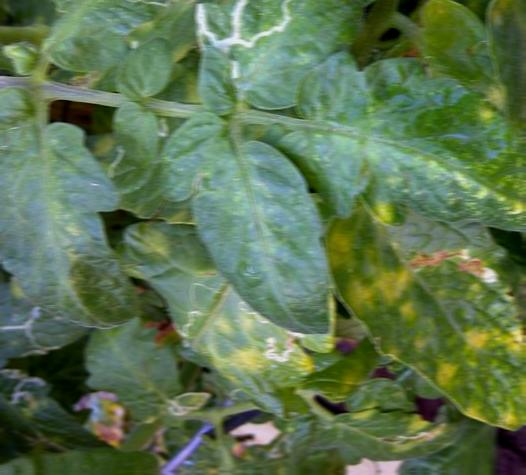Tomato mold leaf: (328, 187, 526, 439), (276, 51, 526, 237), (0, 104, 161, 362), (172, 132, 347, 345), (37, 0, 205, 85)
